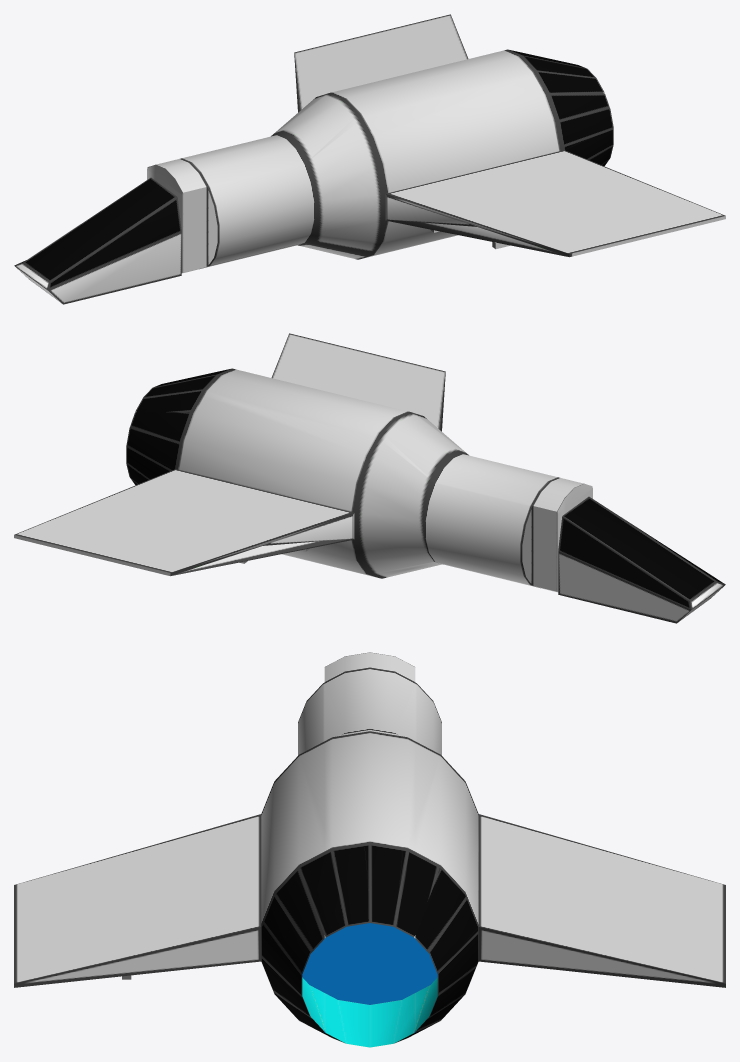
The model's file is fighter_pro_destroyed.FBX.
3 renders of one model, top to bottom at view 1: azimuth 30°, elevation 25°; view 2: azimuth 150°, elevation 25°; view 3: azimuth 270°, elevation 25°, orthographic. The views are drawn at different scales.
Parts seen in each view (by area): view 1: Body, LeftWing, Cockpit, RightWing; view 2: Body, RightWing, Cockpit, LeftWing; view 3: Body, LeftWing, RightWing, Cockpit.
Boxes of the visible parts, x1,y1,x2,y2 form: Body: [180, 49, 613, 268]; LeftWing: [386, 150, 725, 257]; Cockpit: [14, 159, 206, 304]; RightWing: [294, 14, 468, 112]; Body: [126, 368, 559, 587]; RightWing: [14, 469, 354, 576]; Cockpit: [533, 478, 725, 623]; LeftWing: [271, 333, 445, 431]; Body: [261, 668, 478, 1047]; LeftWing: [14, 814, 261, 987]; RightWing: [478, 814, 725, 987]; Cockpit: [324, 652, 415, 681].
Size of the model in its own units: 2.89 by 0.7659 by 2.47.
Materials: 1 (1 with a texture image).
